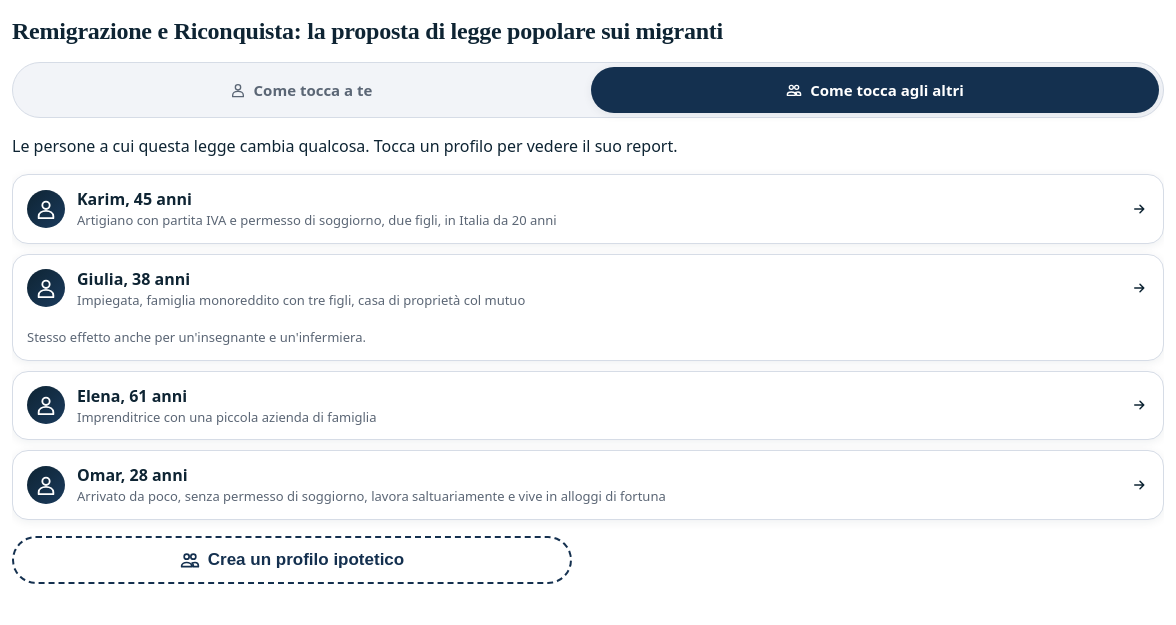
it: gli effetti mostrano la frase corta con "Spiega meglio" che apre quella completa
This screenshot has width=1176, height=625.
What coordinates should you click on to do the following:
click the button "Karim"
I would click on:
 (46, 209)
Its box is [13,175,1163,243].
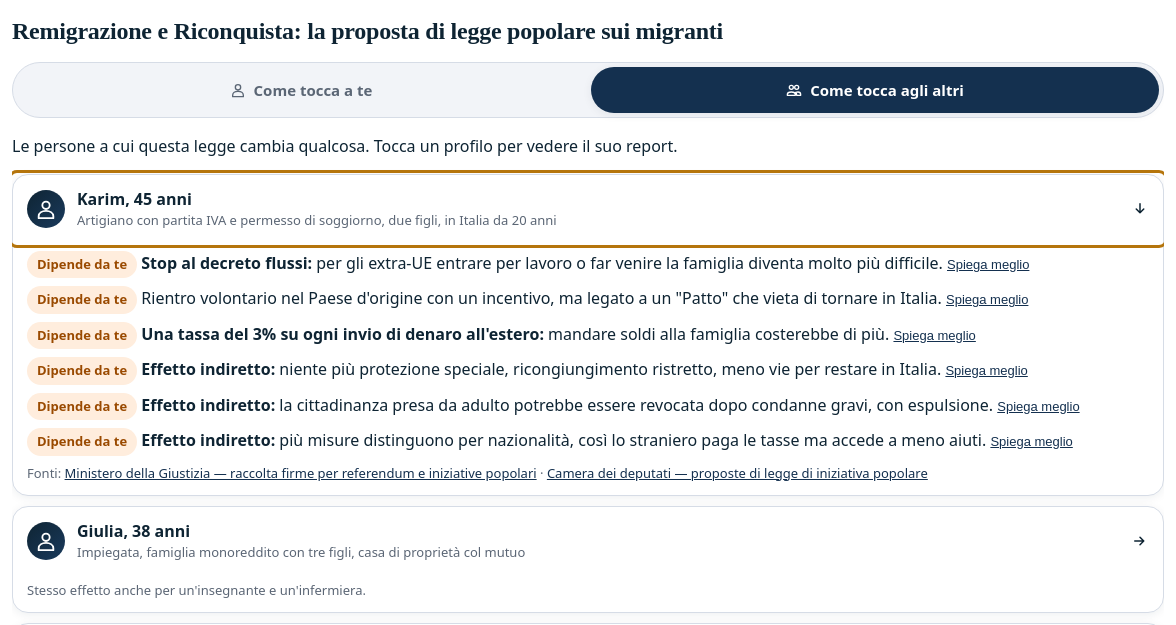
Result: the button "Spiega meglio" in the row of "Stop al decreto flussi:" is shown
What coordinates should you click on to do the following:
click the button "Spiega meglio" in the row of "Stop al decreto flussi:"
I would click on:
 (988, 264)
Its box is [947,257,1029,272].
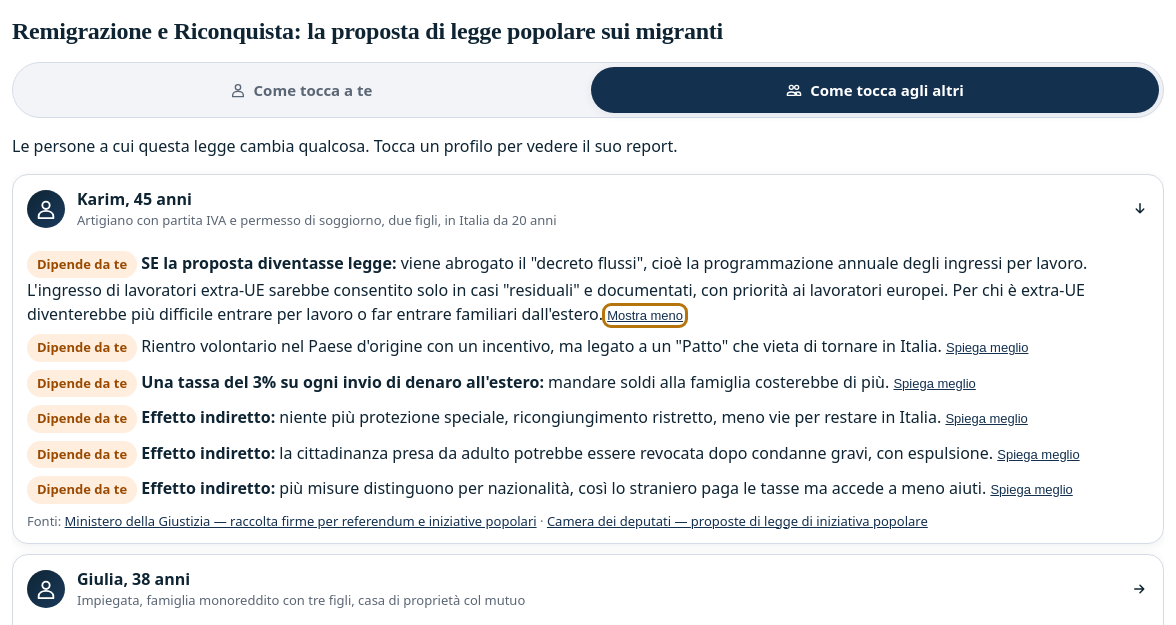
Result: the button "Mostra meno" is shown at [607,308,683,323]
